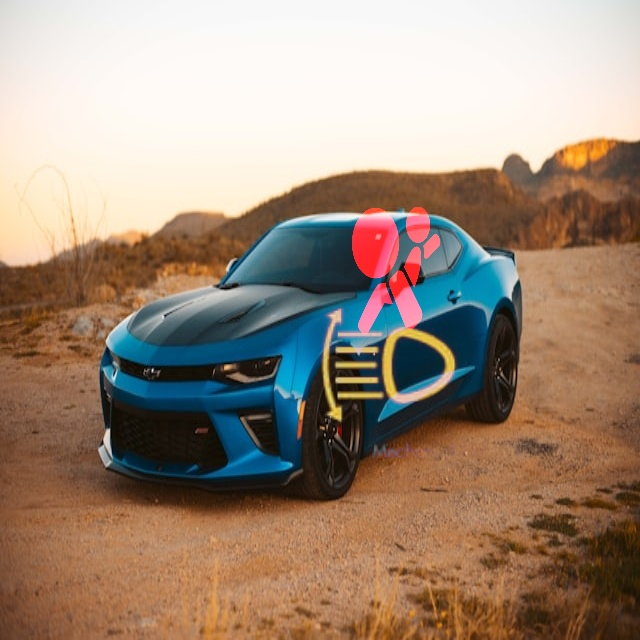symbol: (289, 262, 491, 464), (305, 181, 476, 352)
